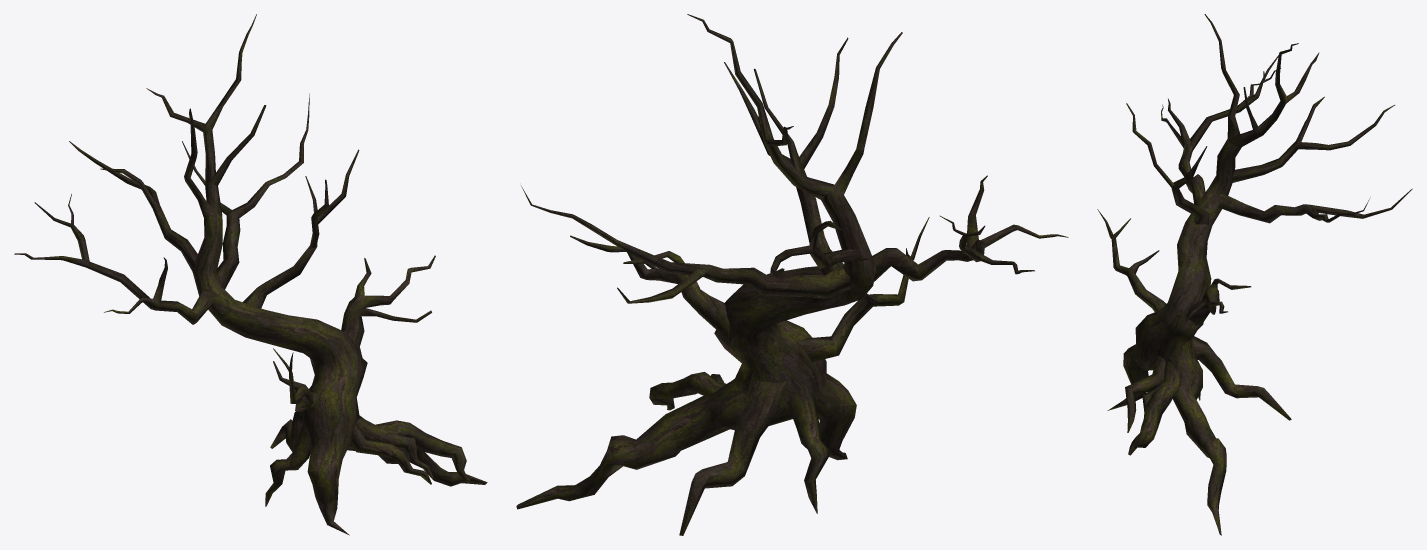
3 views of the same model, side by side, from view 1: azimuth 30°, elevation 25°; view 2: azimuth 150°, elevation 25°; view 3: azimuth 270°, elevation 25° (orthographic). The views are drawn at different scales.
Visible parts, largest first — view 1: 51001_01; view 2: 51001_01; view 3: 51001_01.
Part boxes in pixels (box(x1,y1,x2,y2)): 51001_01: box(14, 14, 487, 535); 51001_01: box(516, 14, 1068, 535); 51001_01: box(1097, 14, 1412, 535).
Size of the model in its own units: 1018 by 1047 by 721.
